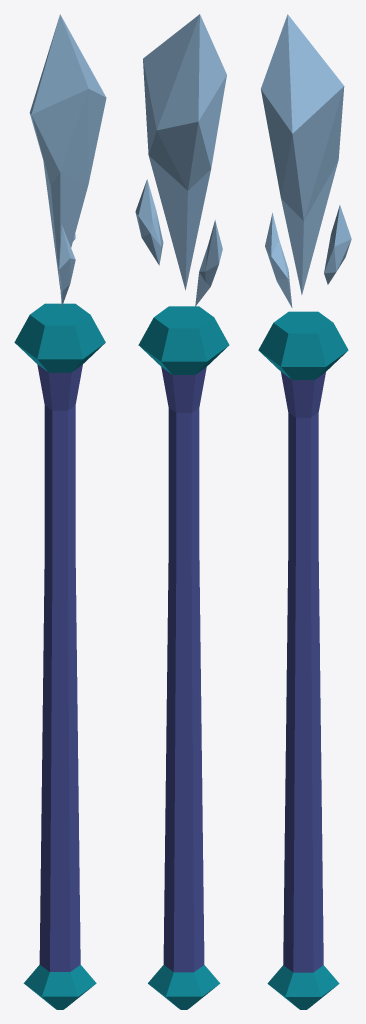
File: Staff.glb
3 renders of one model, left to right at view 1: azimuth 90°, elevation 25°; view 2: azimuth 150°, elevation 25°; view 3: azimuth 330°, elevation 25°, orthographic.
Parts seen in each view (by area): view 1: Staff_04_Circle.011; view 2: Staff_04_Circle.011; view 3: Staff_04_Circle.011.
Boxes of the visible parts, <box> form: Staff_04_Circle.011: <box>14,14,106,1009</box>; Staff_04_Circle.011: <box>135,14,229,1009</box>; Staff_04_Circle.011: <box>258,14,351,1009</box>.
Size of the model in its own units: 1.07 by 12.34 by 1.03.
